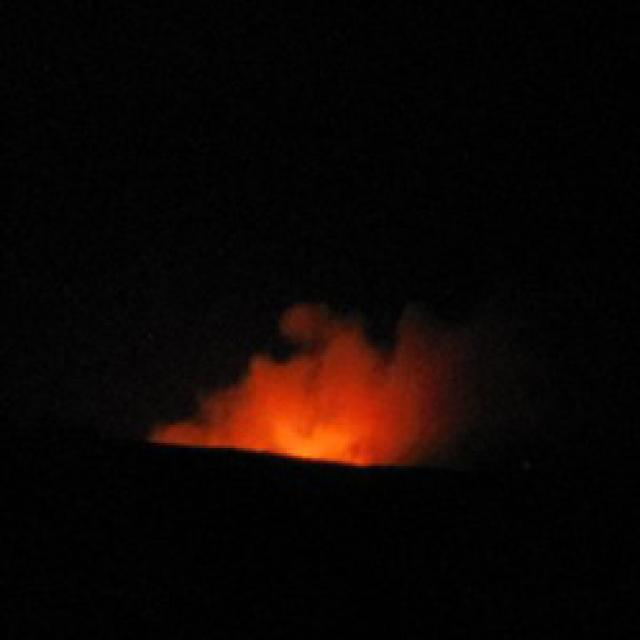Fire: (151, 388, 397, 477)
Smoke: (272, 313, 447, 407)
